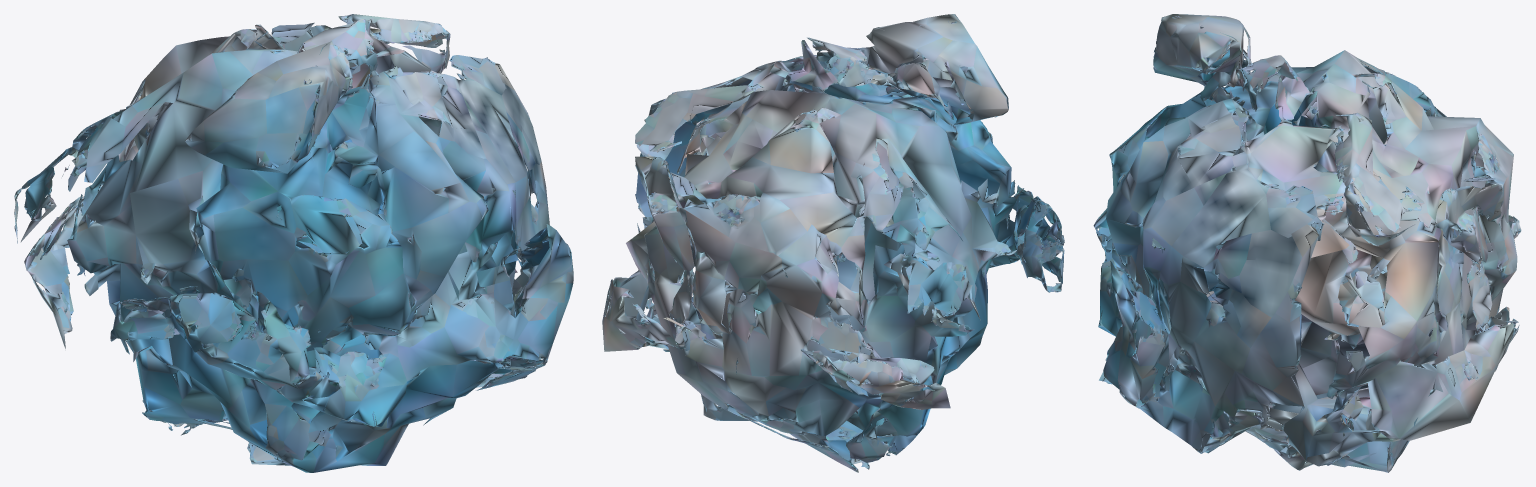
The model's file is resume_ball.glb.
The picture shows the model from 3 angles, left to right: view 1: azimuth 30°, elevation 25°; view 2: azimuth 150°, elevation 25°; view 3: azimuth 270°, elevation 25°; orthographic projection. The views are drawn at different scales.
Parts seen in each view (by area): view 1: tripo_node_f8c4aed1-cfe6-4828-aa17-de6d69758abf; view 2: tripo_node_f8c4aed1-cfe6-4828-aa17-de6d69758abf; view 3: tripo_node_f8c4aed1-cfe6-4828-aa17-de6d69758abf.
Boxes of the visible parts, box(x1,y1,x2,y2) form: tripo_node_f8c4aed1-cfe6-4828-aa17-de6d69758abf: box(14, 14, 573, 472); tripo_node_f8c4aed1-cfe6-4828-aa17-de6d69758abf: box(602, 14, 1064, 472); tripo_node_f8c4aed1-cfe6-4828-aa17-de6d69758abf: box(1093, 14, 1521, 472).
Bounding box in the file's own units: 0.9949 × 0.9201 × 0.8721.
1 material, 1 textured.
